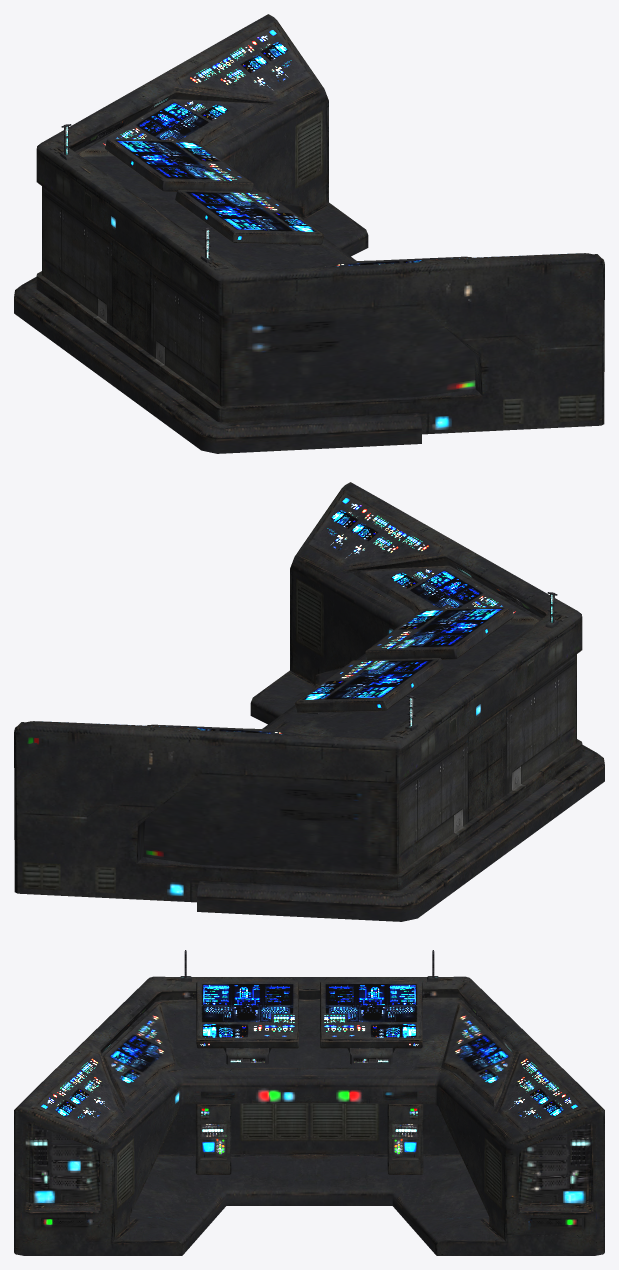
The model's file is sci-fi_console.glb.
3 views of the same model, one above another, from view 1: azimuth 30°, elevation 25°; view 2: azimuth 150°, elevation 25°; view 3: azimuth 270°, elevation 25° (orthographic). The views are drawn at different scales.
Parts seen in each view (by area): view 1: Object_2, Object_3; view 2: Object_2, Object_3; view 3: Object_2, Object_3.
Part boxes in pixels (bbox=[...]): Object_2: bbox=[14, 14, 604, 453]; Object_3: bbox=[49, 21, 591, 270]; Object_2: bbox=[14, 482, 604, 921]; Object_3: bbox=[27, 489, 569, 738]; Object_2: bbox=[14, 976, 604, 1255]; Object_3: bbox=[30, 950, 588, 1174].
Size of the model in its own units: 2.28 by 1.29 by 3.98.
2 materials, 2 textured.
